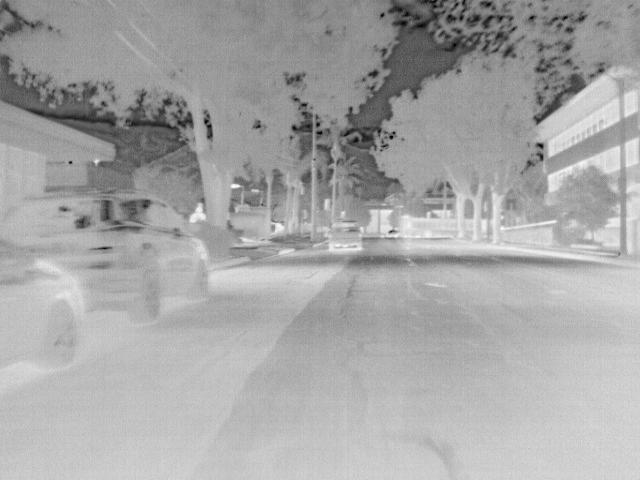car: (1, 188, 211, 327), (1, 238, 84, 369), (329, 222, 365, 248), (388, 228, 401, 237)
person: (188, 200, 208, 221)
